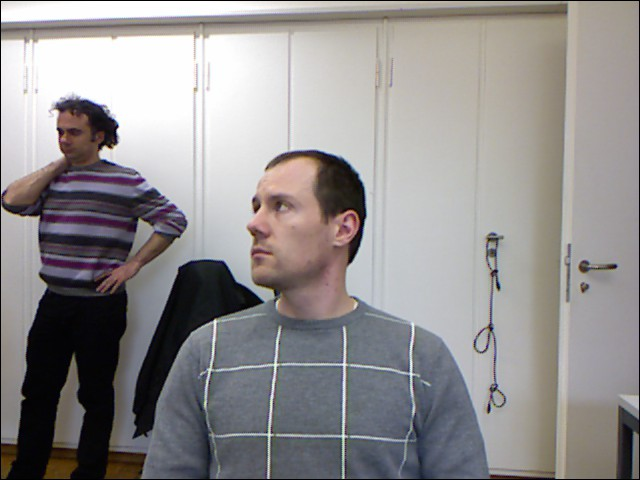deflection: (183, 151, 443, 480)
